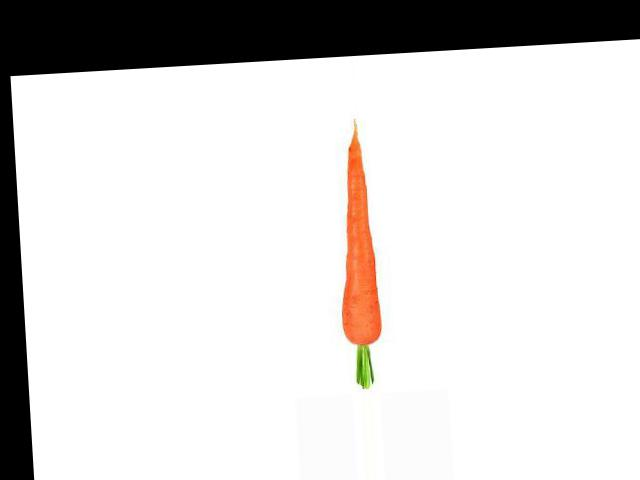carrot: (322, 120, 389, 353)
